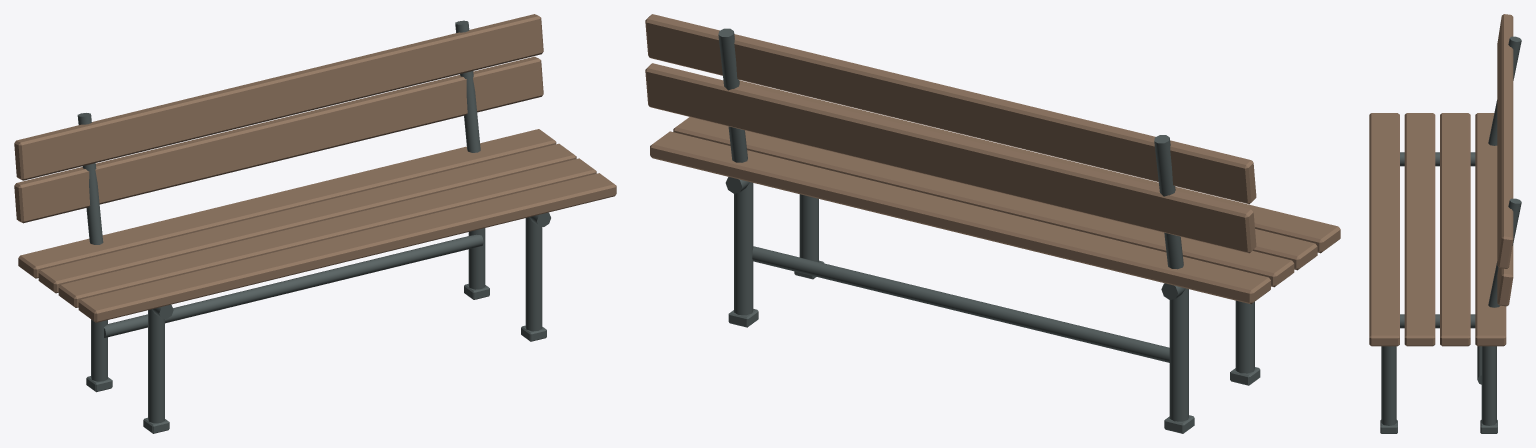
The model's file is campus-bench.glb.
The picture shows the model from 3 angles, left to right: view 1: azimuth 30°, elevation 25°; view 2: azimuth 150°, elevation 25°; view 3: azimuth 270°, elevation 25°; orthographic projection. The views are drawn at different scales.
Visible parts, largest first — view 1: campus-bench; view 2: campus-bench; view 3: campus-bench.
Boxes of the visible parts, <box> form: campus-bench: <box>14,14,616,433</box>; campus-bench: <box>645,14,1340,433</box>; campus-bench: <box>1369,14,1521,433</box>.
Size of the model in its own units: 1.8 by 0.8638 by 0.5182.
